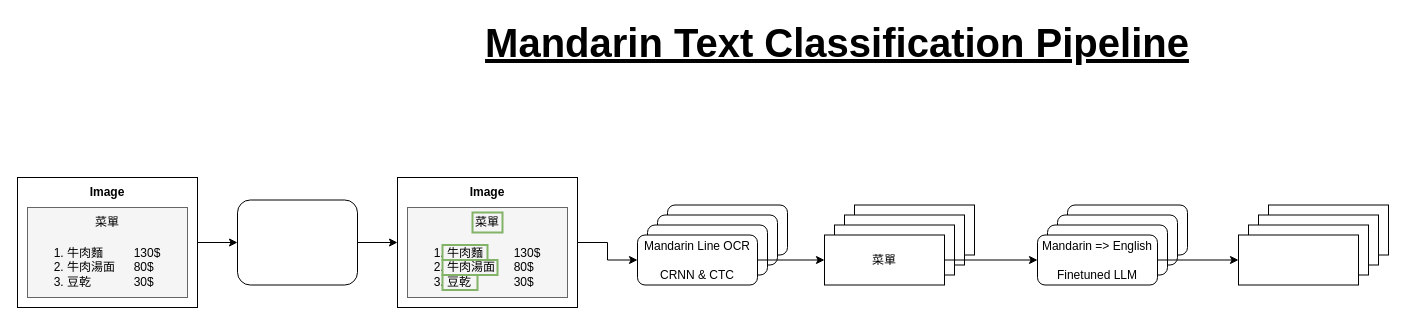
Some shapes in this 1406 by 325 pixel diagram are drawn without their labels. The centre of each missing label's shape, as x and y in pixels:
Mandarin Line Detector PaddleOCR Library & OpenCV image cropping: (x=297, y=242)
Menu: (x=1298, y=259)
